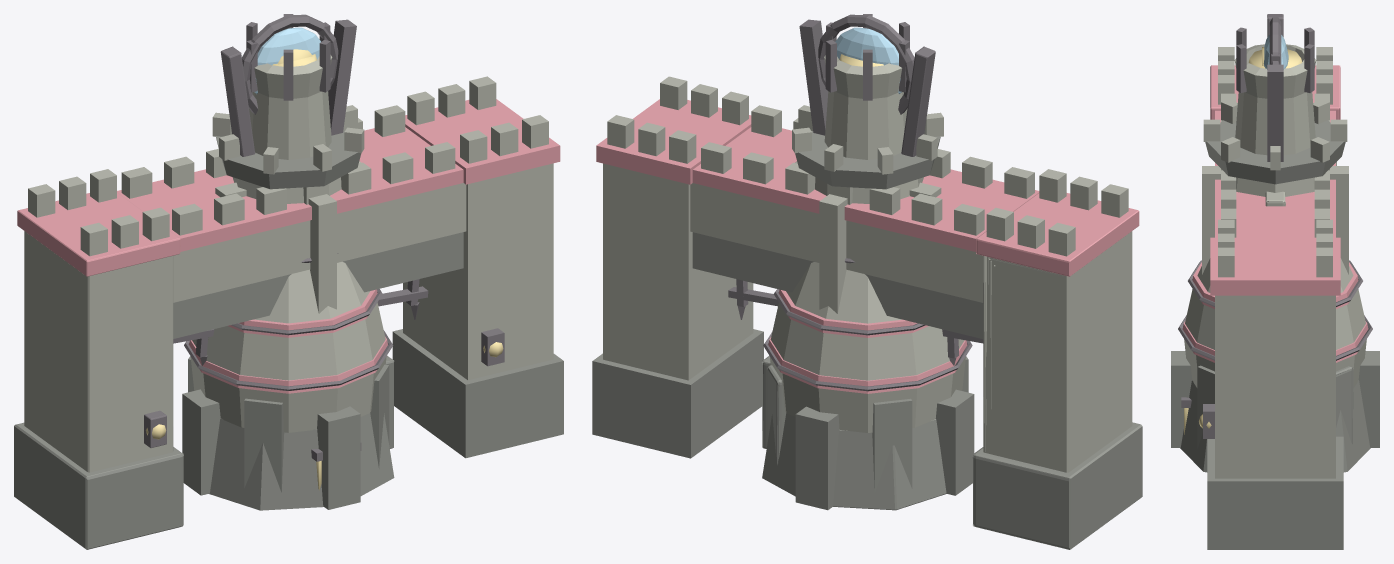
Rendered from AshenF14Kit.fbx.
The picture shows the model from 3 angles, left to right: view 1: azimuth 30°, elevation 25°; view 2: azimuth 150°, elevation 25°; view 3: azimuth 270°, elevation 25°; orthographic projection. The views are drawn at different scales.
Parts seen in each view (by area): view 1: PortcullisGate__TRIM, PortcullisGate__STONE, KilnTower__TRIM, PortcullisGate__ALT, KilnTower__STONE, SignalLensTower__STONE, SignalLensTower__TRIM, SignalLensTower__METAL, KilnTower__METAL, KilnTower__ALT, PortcullisGate__METAL, SignalLensTower__CRYSTAL; view 2: PortcullisGate__TRIM, PortcullisGate__STONE, KilnTower__TRIM, PortcullisGate__ALT, KilnTower__STONE, SignalLensTower__STONE, SignalLensTower__TRIM, SignalLensTower__METAL, KilnTower__METAL, KilnTower__ALT, SignalLensTower__CRYSTAL, PortcullisGate__METAL; view 3: PortcullisGate__TRIM, PortcullisGate__ALT, PortcullisGate__STONE, KilnTower__TRIM, SignalLensTower__TRIM, KilnTower__STONE, SignalLensTower__STONE, KilnTower__METAL, SignalLensTower__METAL, KilnTower__ALT, KilnTower__GLOW, PortcullisGate__METAL (+1 smaller).
Part boxes in pixels (x1,y1,x2,y2): PortcullisGate__TRIM: [24, 76, 553, 472]; PortcullisGate__STONE: [14, 232, 563, 549]; KilnTower__TRIM: [190, 55, 386, 432]; PortcullisGate__ALT: [17, 99, 560, 276]; KilnTower__STONE: [182, 355, 394, 510]; SignalLensTower__STONE: [188, 131, 389, 492]; SignalLensTower__TRIM: [212, 105, 364, 313]; SignalLensTower__METAL: [220, 14, 356, 156]; KilnTower__METAL: [184, 14, 393, 461]; KilnTower__ALT: [189, 289, 387, 393]; PortcullisGate__METAL: [144, 279, 504, 447]; SignalLensTower__CRYSTAL: [254, 27, 320, 93]; PortcullisGate__TRIM: [603, 76, 1132, 472]; PortcullisGate__STONE: [592, 232, 1142, 549]; KilnTower__TRIM: [770, 55, 965, 432]; PortcullisGate__ALT: [596, 99, 1139, 276]; KilnTower__STONE: [761, 355, 974, 510]; SignalLensTower__STONE: [767, 131, 968, 492]; SignalLensTower__TRIM: [792, 105, 943, 313]; SignalLensTower__METAL: [799, 14, 935, 156]; KilnTower__METAL: [763, 14, 972, 391]; KilnTower__ALT: [768, 289, 967, 393]; SignalLensTower__CRYSTAL: [835, 27, 901, 93]; PortcullisGate__METAL: [728, 279, 983, 365]; PortcullisGate__TRIM: [1215, 47, 1336, 478]; PortcullisGate__ALT: [1210, 65, 1340, 295]; PortcullisGate__STONE: [1207, 436, 1343, 549]; KilnTower__TRIM: [1184, 44, 1366, 388]; SignalLensTower__TRIM: [1202, 99, 1348, 274]; KilnTower__STONE: [1171, 351, 1379, 472]; SignalLensTower__STONE: [1197, 120, 1353, 448]; KilnTower__METAL: [1178, 27, 1372, 407]; SignalLensTower__METAL: [1267, 14, 1283, 161]; KilnTower__ALT: [1182, 262, 1368, 362]; KilnTower__GLOW: [1184, 49, 1302, 434]; PortcullisGate__METAL: [1203, 404, 1214, 438].
Size of the model in its own units: 68 by 61.15 by 27.6.
